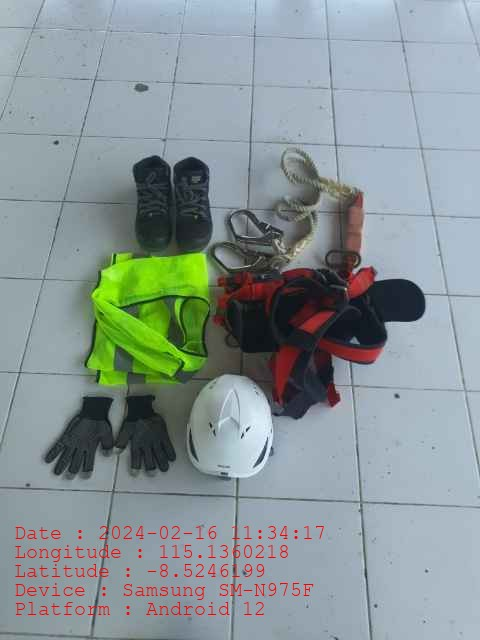HELM: (184, 373, 273, 479)
ROMPI: (93, 251, 209, 384)
SARUNG_TANGAN: (45, 393, 112, 476), (114, 395, 175, 478)
SEPATU: (132, 156, 214, 251)
TAMBANG_SLING: (211, 145, 366, 268)
